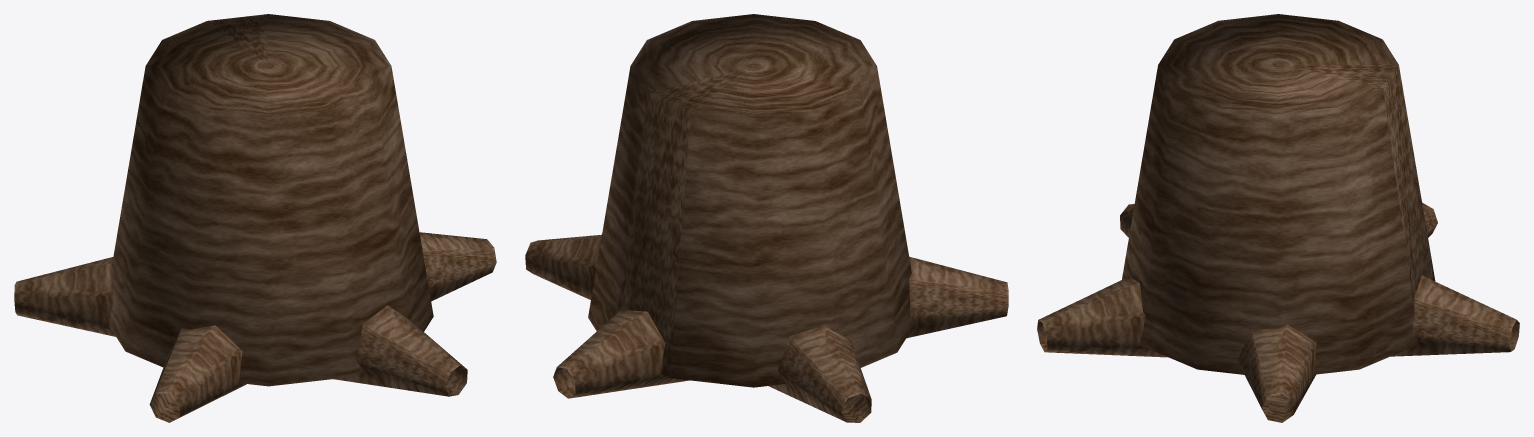
The model's file is stump.obj.
3 views of the same model, side by side, from view 1: azimuth 30°, elevation 25°; view 2: azimuth 150°, elevation 25°; view 3: azimuth 270°, elevation 25° (orthographic). The views are drawn at different scales.
Parts seen in each view (by area): view 1: stump; view 2: stump; view 3: stump.
Boxes of the visible parts, x1,y1,x2,y2 form: stump: (14,14,496,422); stump: (525,14,1008,422); stump: (1037,14,1519,422).
Size of the model in its own units: 1.22 by 0.8159 by 1.28.
2 materials, 2 textured.
